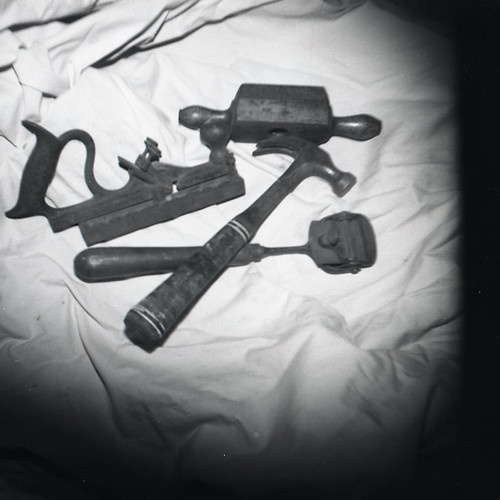hammer: (122, 134, 356, 352)
